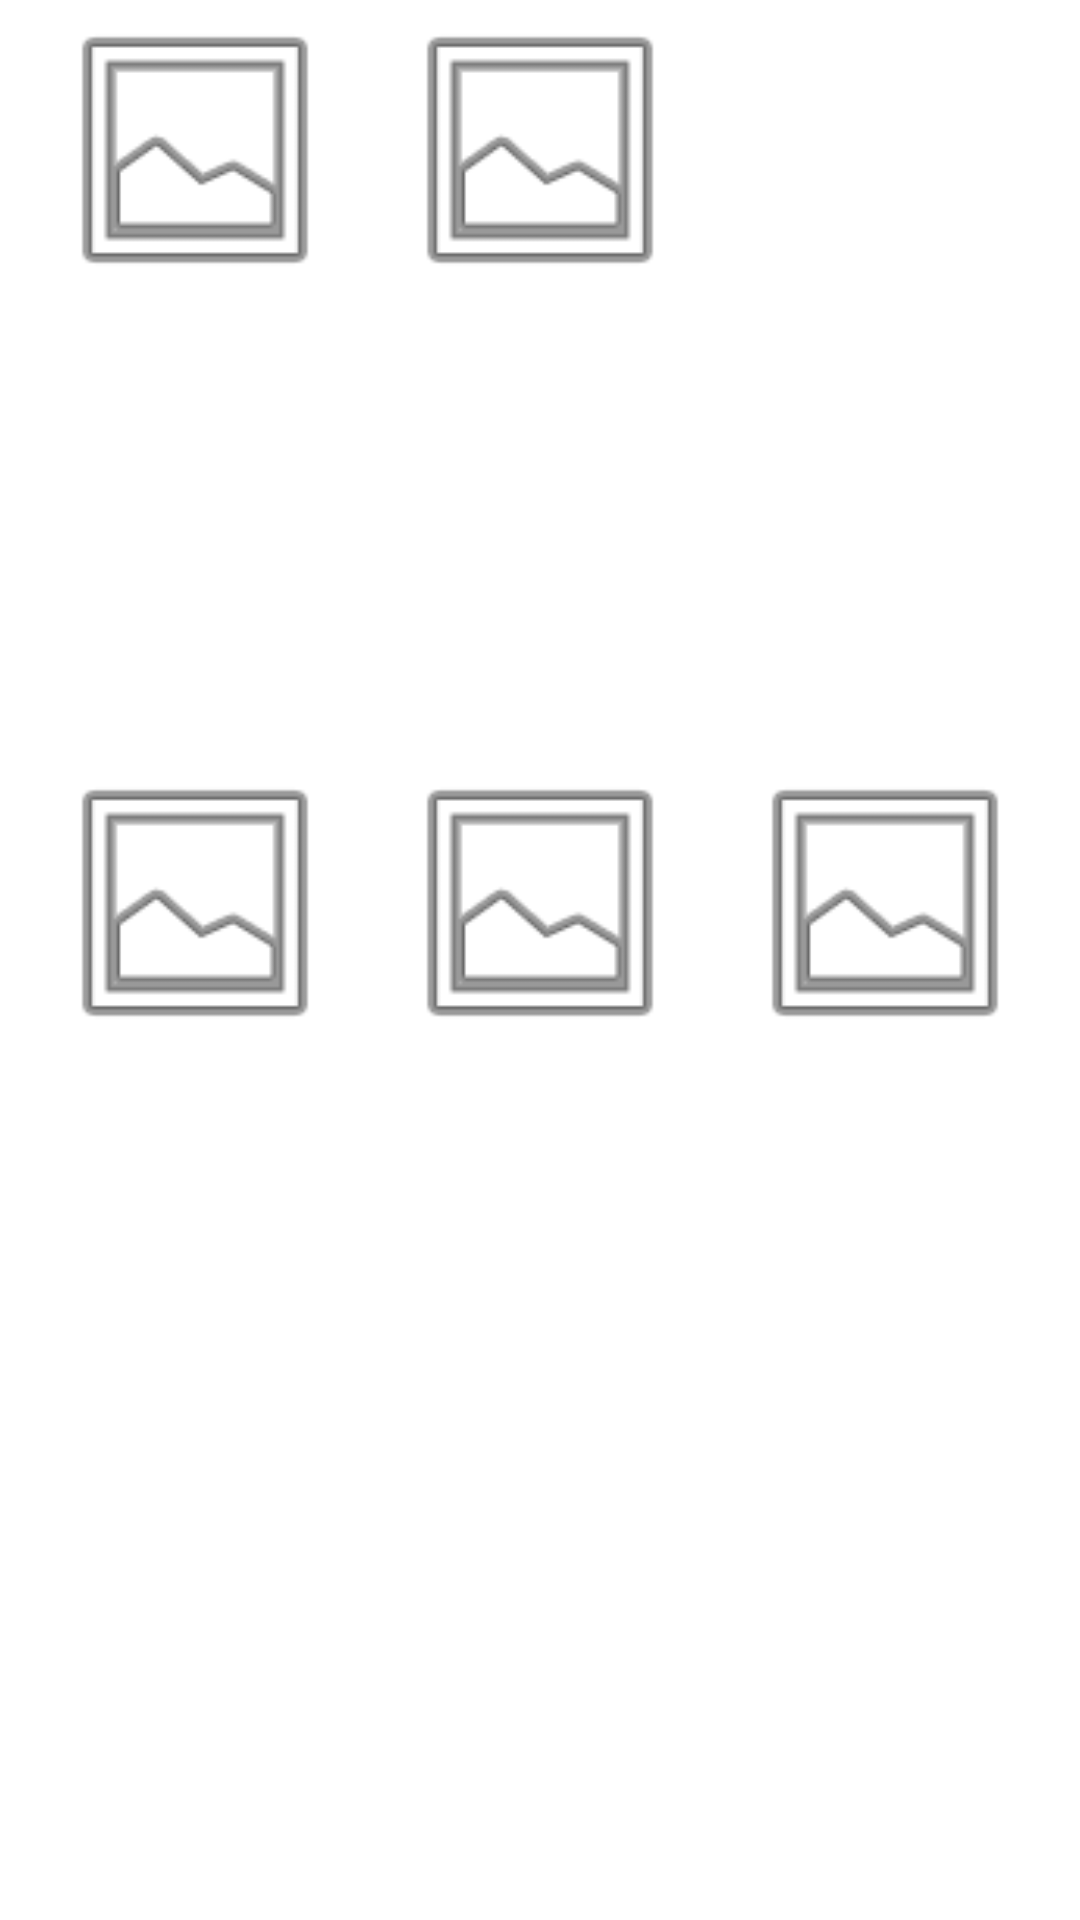

Locate icon controls on the screen. Image size 1080w x 1920h, boxes as (x1, y1, x2, y2).
gallery: (82, 37, 308, 263), (427, 37, 653, 263), (82, 790, 308, 1016), (427, 790, 653, 1016), (772, 790, 998, 1016)
